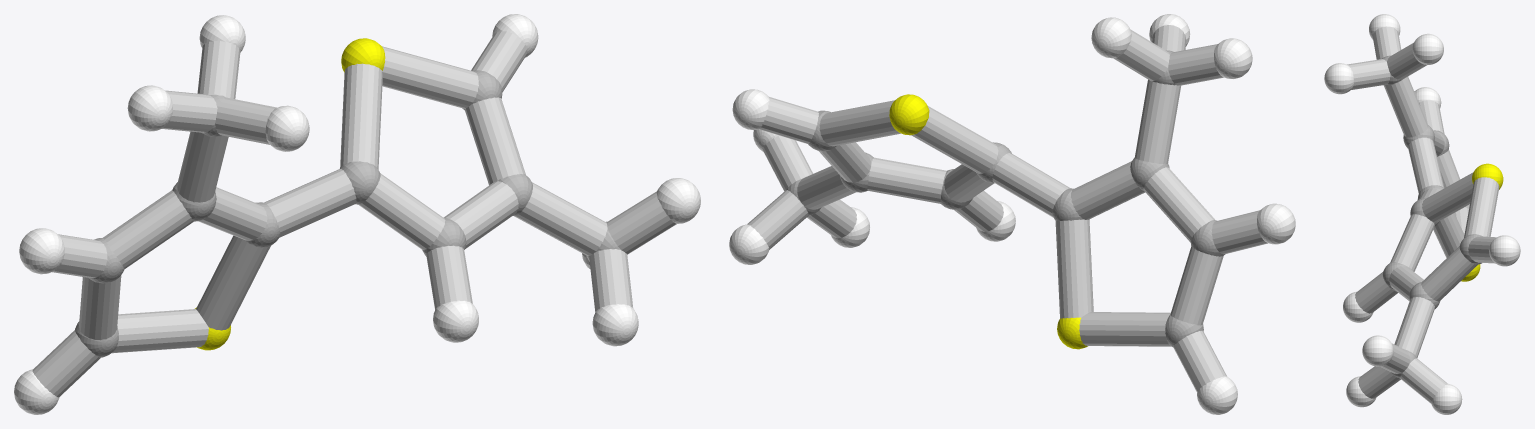
Rendered from color.glb.
The picture shows the model from 3 angles, left to right: view 1: azimuth 30°, elevation 25°; view 2: azimuth 150°, elevation 25°; view 3: azimuth 270°, elevation 25°; orthographic projection. The views are drawn at different scales.
Visible parts, largest first — view 1: grp7965, grp3621, grp1, grp7241; view 2: grp7965, grp3621, grp1, grp7241; view 3: grp7965, grp3621, grp1, grp7241.
Boxes of the visible parts, x1=… form: grp7965: x1=32, y1=31, x2=676, y2=397; grp3621: x1=14, y1=14, x2=700, y2=414; grp1: x1=75, y1=70, x2=620, y2=357; grp7241: x1=195, y1=38, x2=385, y2=350; grp7965: x1=747, y1=25, x2=1267, y2=392; grp3621: x1=729, y1=14, x2=1295, y2=414; grp1: x1=787, y1=50, x2=1225, y2=347; grp7241: x1=889, y1=94, x2=1087, y2=349; grp7965: x1=1347, y1=26, x2=1499, y2=403; grp3621: x1=1324, y1=14, x2=1520, y2=414; grp1: x1=1382, y1=55, x2=1482, y2=378; grp7241: x1=1461, y1=163, x2=1503, y2=281.
Bounding box in the file's own units: 9.59 × 5.48 × 3.73.
